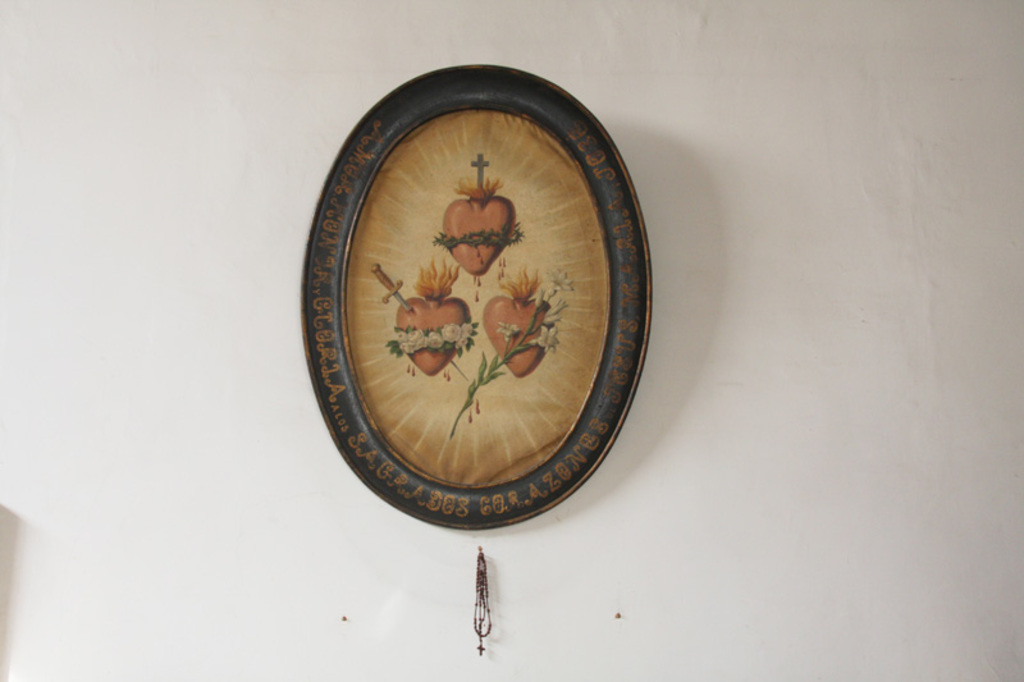plate: (275, 58, 696, 564)
